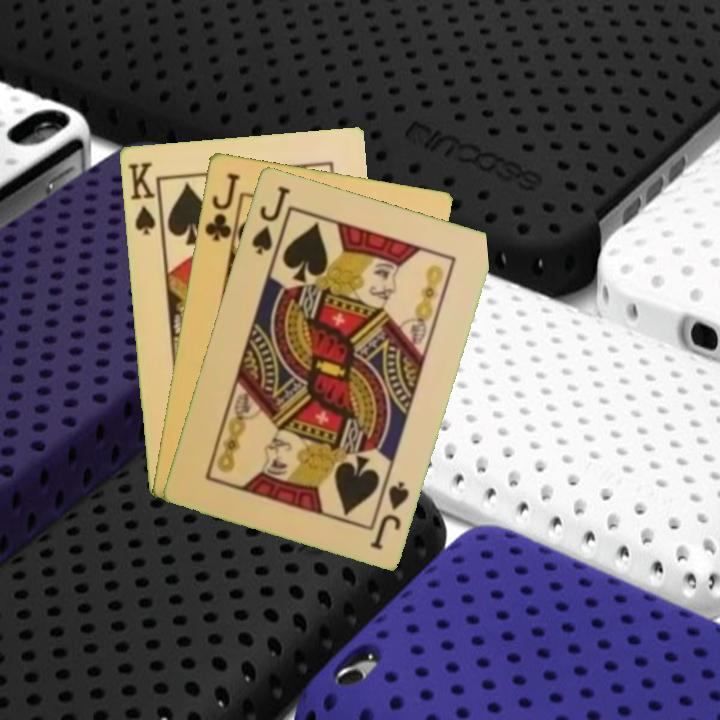Jc: (200, 168, 242, 244)
Js: (247, 182, 293, 257), (366, 477, 412, 552)
Ks: (124, 158, 158, 238)
